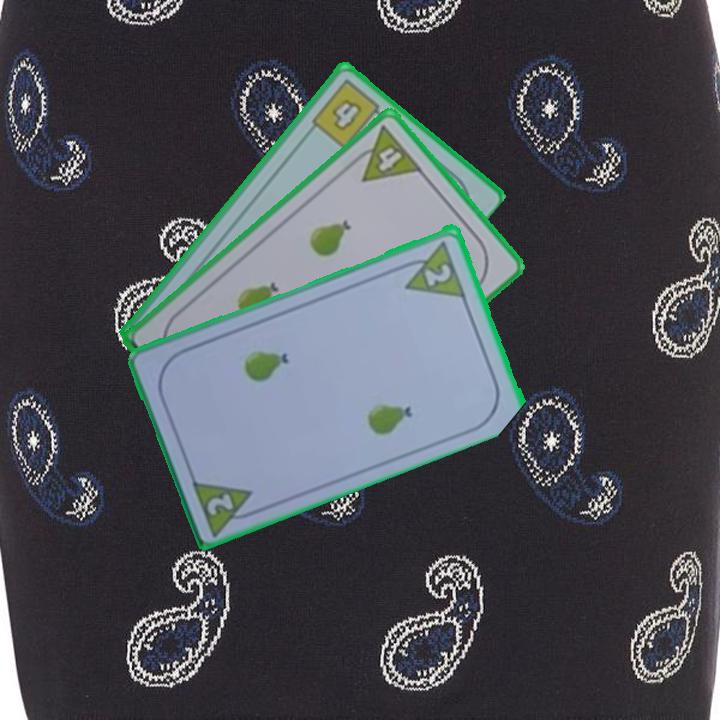2p: (188, 474, 264, 537), (421, 259, 455, 289)
4b: (307, 75, 389, 152)
4p: (345, 122, 425, 185)
